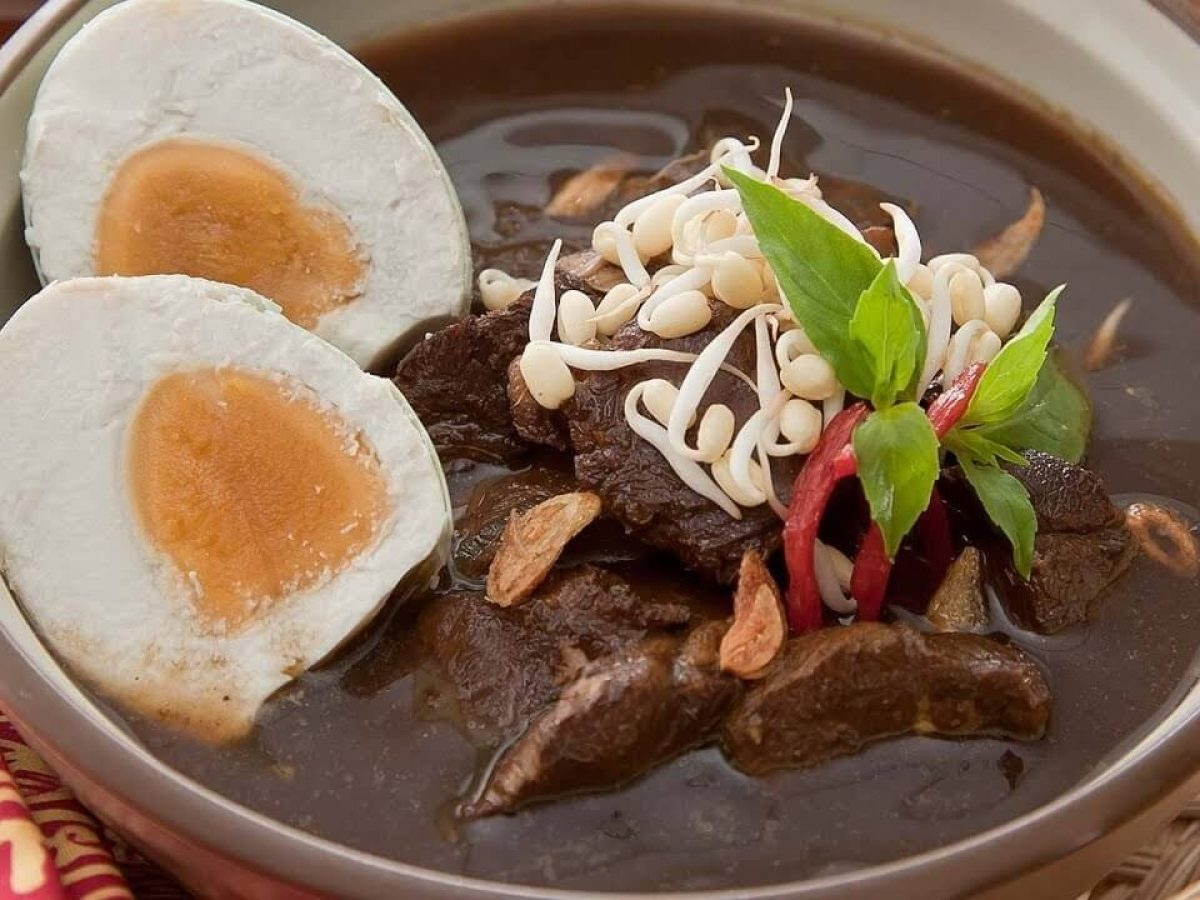rawon: (23, 29, 1200, 861)
